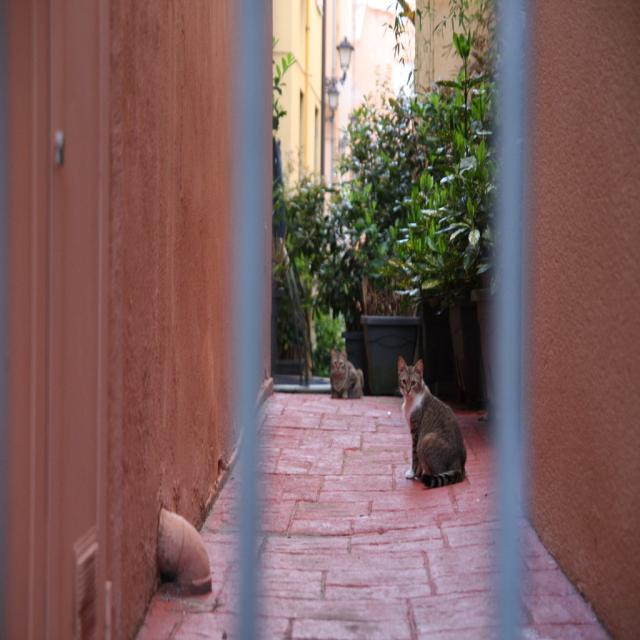Cat: (399, 359, 471, 487), (329, 350, 364, 398)
